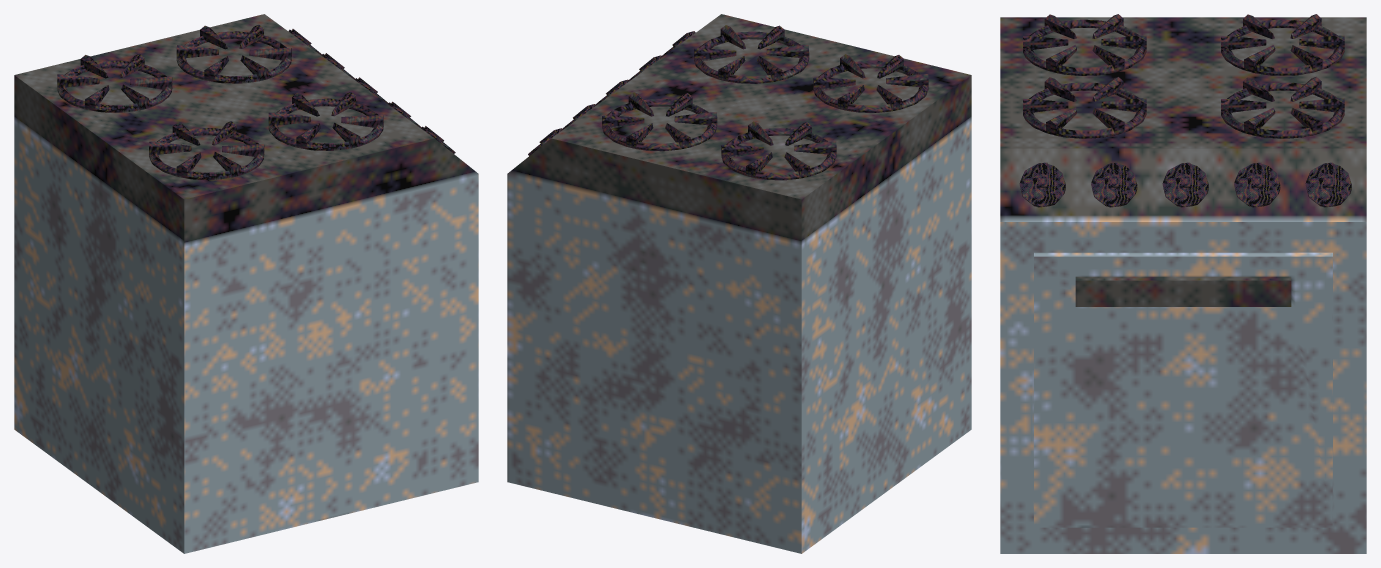
File: Oven2.fbx
3 renders of one model, left to right at view 1: azimuth 30°, elevation 25°; view 2: azimuth 150°, elevation 25°; view 3: azimuth 270°, elevation 25°, orthographic. The views are drawn at different scales.
Visible parts, largest first — view 1: Cube, Circle, Circle.001; view 2: Cube, Circle, Circle.001; view 3: Cube, Circle, Circle.001.
Part boxes in pixels (box(x1,y1,x2,y2)): Cube: box(14, 14, 478, 553); Circle: box(57, 25, 383, 179); Circle.001: box(288, 29, 455, 153); Cube: box(507, 14, 971, 553); Circle: box(602, 25, 928, 180); Circle.001: box(528, 31, 695, 155); Cube: box(1000, 17, 1366, 553); Circle: box(1023, 14, 1344, 138); Circle.001: box(1019, 162, 1351, 207).
Size of the model in its own units: 0.3184 by 0.3025 by 0.3605.
Materials: 3 (3 with a texture image).
